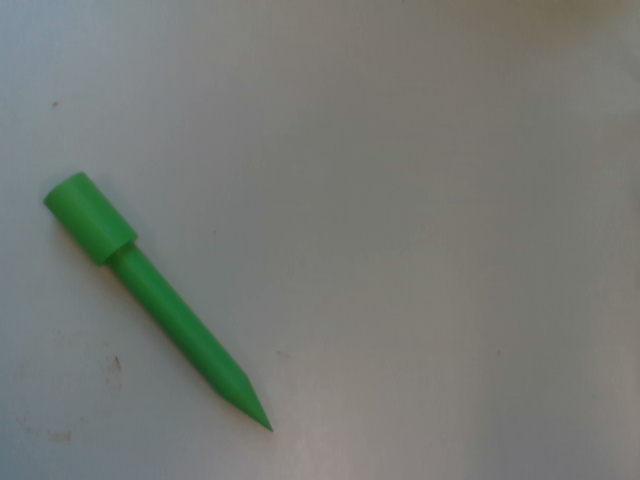Probe: (35, 167, 282, 443)
